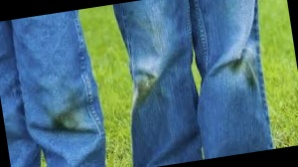earth: (235, 58, 259, 86), (133, 77, 158, 101), (50, 111, 75, 132)
